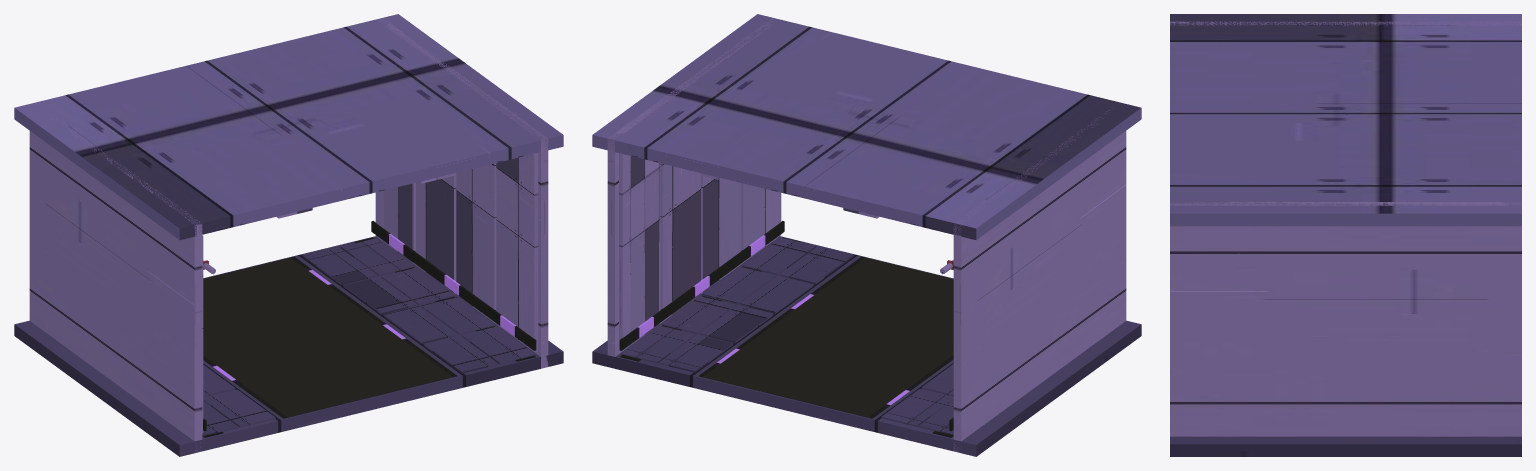
Rendered from hangar_koridor_kristal.glb.
3 views of the same model, side by side, from view 1: azimuth 30°, elevation 25°; view 2: azimuth 150°, elevation 25°; view 3: azimuth 270°, elevation 25° (orthographic). The views are drawn at different scales.
Visible parts, largest first — view 1: LOD0_koridor; view 2: LOD0_koridor; view 3: LOD0_koridor.
Boxes of the visible parts, x1,y1,x2,y2 form: LOD0_koridor: (14, 14, 563, 456); LOD0_koridor: (592, 14, 1141, 456); LOD0_koridor: (1170, 14, 1521, 456).
Bounding box in the file's own units: 10.2 × 5.8 × 7.6.
1 material, 1 textured.
